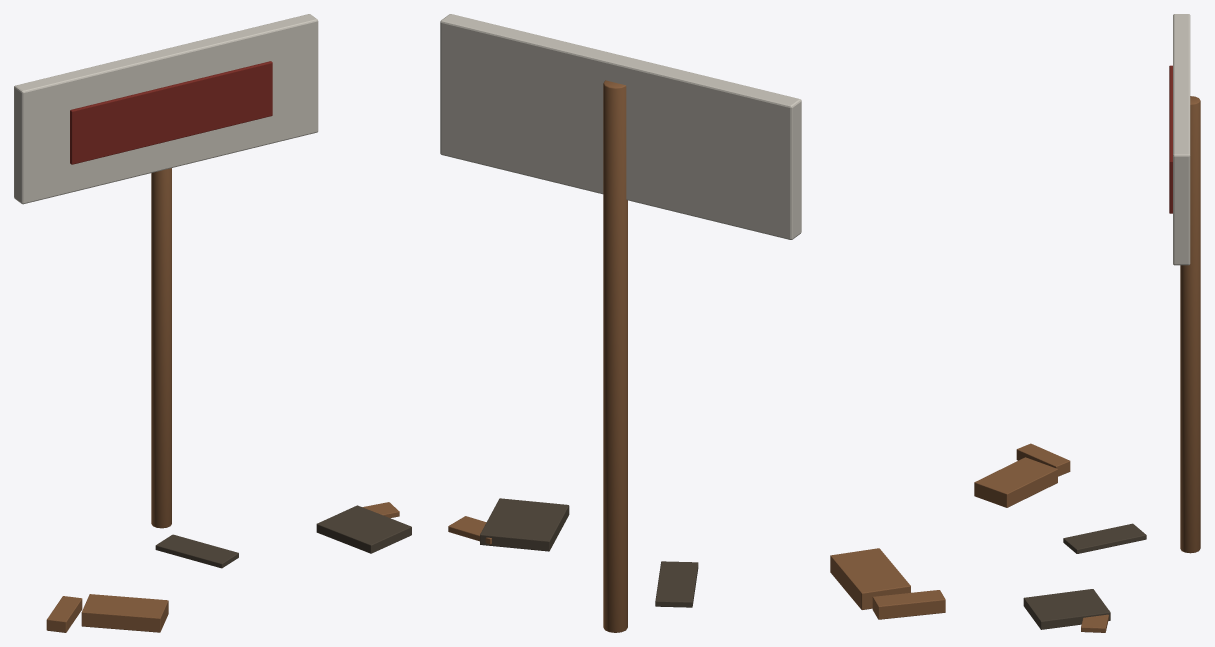
Rendered from dz_urban_street_sign_quarantine_premium.glb.
The picture shows the model from 3 angles, left to right: view 1: azimuth 30°, elevation 25°; view 2: azimuth 150°, elevation 25°; view 3: azimuth 270°, elevation 25°; orthographic projection. The views are drawn at different scales.
Parts seen in each view (by area): view 1: quarantine_street_sign, red_access_interdit_paint, street_sign_pole, sign_debris_01, sign_debris_04, sign_debris_00, sign_debris_02; view 2: quarantine_street_sign, street_sign_pole, sign_debris_04, sign_debris_01, sign_debris_00, sign_debris_02; view 3: street_sign_pole, quarantine_street_sign, sign_debris_01, sign_debris_04, sign_debris_00, sign_debris_02, red_access_interdit_paint, sign_debris_03.
Boxes of the visible parts, x1,y1,x2,y2 form: quarantine_street_sign: [14, 14, 318, 204]; red_access_interdit_paint: [70, 61, 272, 164]; street_sign_pole: [151, 168, 171, 528]; sign_debris_01: [81, 594, 168, 632]; sign_debris_04: [316, 505, 411, 553]; sign_debris_00: [155, 534, 238, 568]; sign_debris_02: [46, 596, 82, 632]; quarantine_street_sign: [440, 14, 801, 239]; street_sign_pole: [603, 80, 627, 632]; sign_debris_04: [480, 498, 569, 551]; sign_debris_01: [830, 548, 910, 609]; sign_debris_00: [655, 561, 698, 607]; sign_debris_02: [872, 590, 945, 619]; street_sign_pole: [1180, 96, 1200, 553]; quarantine_street_sign: [1173, 14, 1190, 265]; sign_debris_01: [974, 457, 1057, 507]; sign_debris_04: [1023, 589, 1110, 629]; sign_debris_00: [1063, 523, 1146, 553]; sign_debris_02: [1016, 443, 1070, 476]; red_access_interdit_paint: [1169, 65, 1172, 213]; sign_debris_03: [1081, 610, 1109, 632].
Bounding box in the file's own units: 1.48 × 1.76 × 0.7757.
